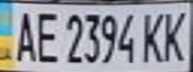2: (60, 8, 84, 64)
3: (81, 9, 103, 65)
4: (118, 9, 142, 64)
9: (100, 9, 121, 64)
A: (9, 6, 39, 63)
E: (30, 7, 60, 64)
K: (157, 7, 193, 63), (139, 8, 169, 63)
